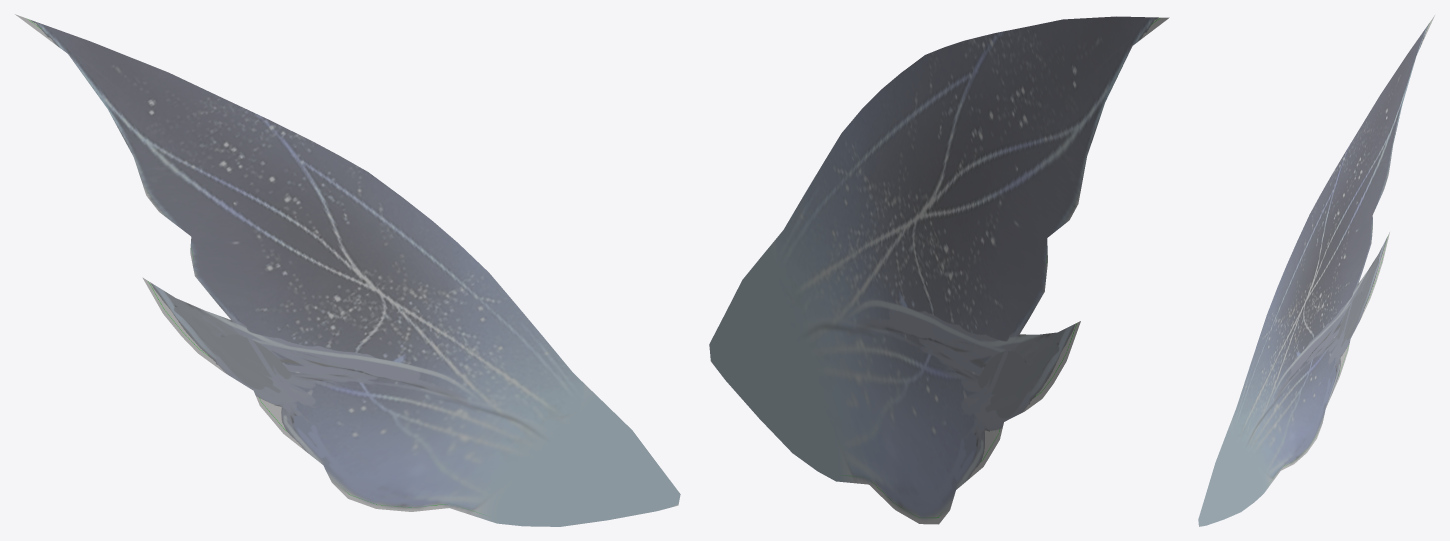
3 renders of one model, left to right at view 1: azimuth 30°, elevation 25°; view 2: azimuth 150°, elevation 25°; view 3: azimuth 270°, elevation 25°, orthographic. The views are drawn at different scales.
Visible parts, largest first — view 1: CB01; view 2: CB01; view 3: CB01.
Part boxes in pixels (x1=…): CB01: x1=15, y1=14, x2=680, y2=526; CB01: x1=709, y1=16, x2=1169, y2=524; CB01: x1=1198, y1=15, x2=1434, y2=526.
Size of the model in its own units: 77.94 by 76.55 by 45.94.
